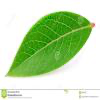Blueberry leaf: (3, 11, 96, 80)
